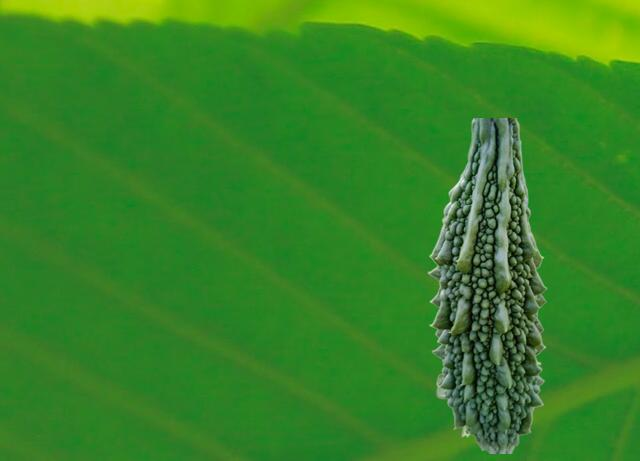ampalaya: (427, 118, 546, 452)
